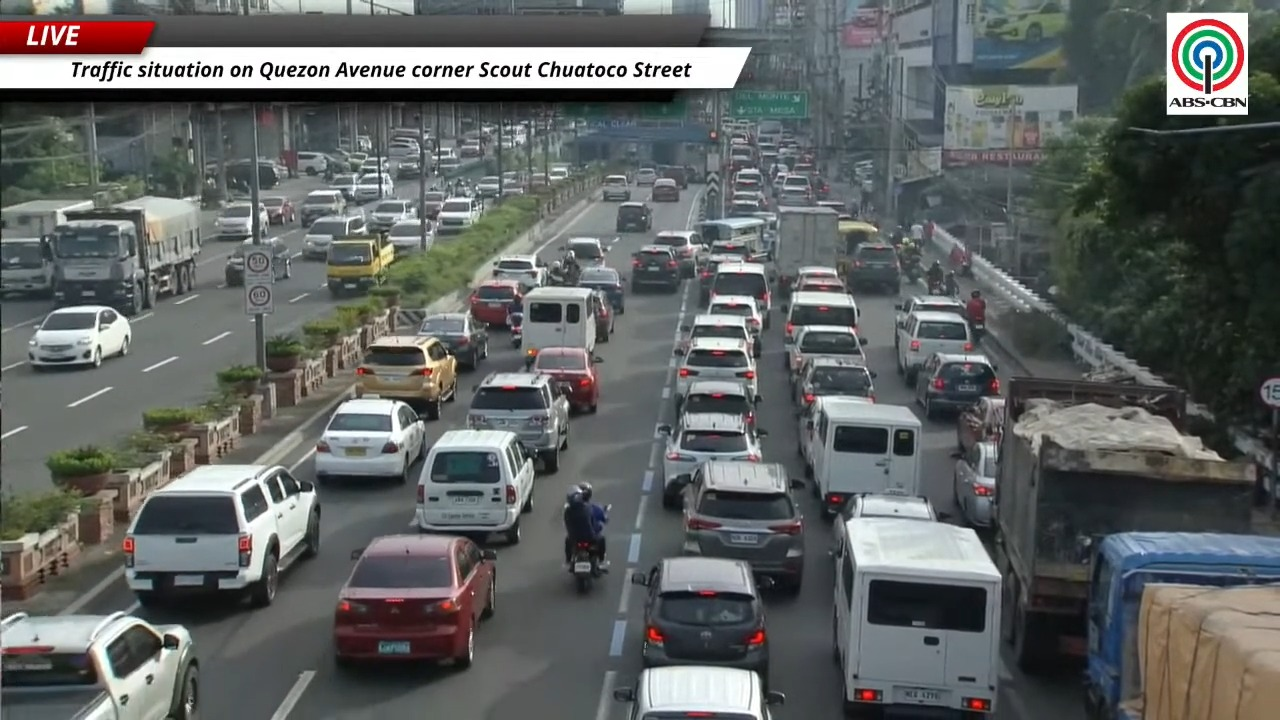car: (123, 465, 320, 607), (333, 534, 496, 668), (0, 612, 200, 719), (632, 557, 768, 680), (682, 460, 804, 594), (412, 430, 535, 544), (466, 372, 571, 472), (657, 411, 765, 508), (313, 398, 425, 482), (355, 335, 457, 419), (28, 305, 131, 370), (896, 310, 974, 386), (675, 337, 757, 405), (915, 352, 999, 418), (531, 348, 602, 412), (787, 325, 866, 382), (793, 355, 875, 406), (417, 312, 488, 369), (953, 440, 998, 526), (978, 0, 1067, 43), (678, 380, 759, 427), (674, 314, 760, 357), (895, 295, 966, 347), (706, 295, 763, 356), (224, 237, 291, 286), (302, 215, 366, 259), (840, 493, 939, 521), (956, 397, 1004, 452), (847, 242, 900, 291), (468, 279, 522, 325), (631, 245, 681, 292), (652, 230, 701, 277), (578, 265, 624, 314), (796, 396, 823, 477), (699, 253, 741, 304), (437, 196, 482, 236), (492, 254, 546, 287), (299, 189, 345, 226), (387, 219, 433, 256), (367, 200, 415, 232), (791, 265, 843, 291), (561, 237, 604, 266), (592, 290, 615, 342), (615, 200, 652, 232), (354, 172, 393, 201), (261, 196, 296, 224), (792, 276, 846, 292), (328, 173, 357, 201), (730, 190, 767, 211), (421, 190, 447, 219), (602, 175, 631, 201), (777, 186, 813, 206), (659, 166, 689, 188), (651, 179, 680, 201), (476, 176, 504, 198), (732, 175, 762, 194), (811, 173, 830, 201), (396, 158, 421, 179), (727, 201, 760, 216), (256, 203, 270, 236), (459, 140, 483, 159), (359, 158, 389, 173), (771, 169, 787, 196), (635, 168, 658, 186)
motorcycle: (569, 541, 603, 593), (507, 313, 522, 348), (903, 258, 920, 282), (970, 322, 986, 346), (944, 274, 959, 296), (927, 279, 943, 295), (957, 261, 971, 277)
truck: (993, 377, 1254, 674), (1085, 532, 1279, 719), (49, 196, 201, 316), (0, 199, 93, 297), (773, 206, 838, 293), (0, 199, 94, 237), (0, 236, 53, 297)
